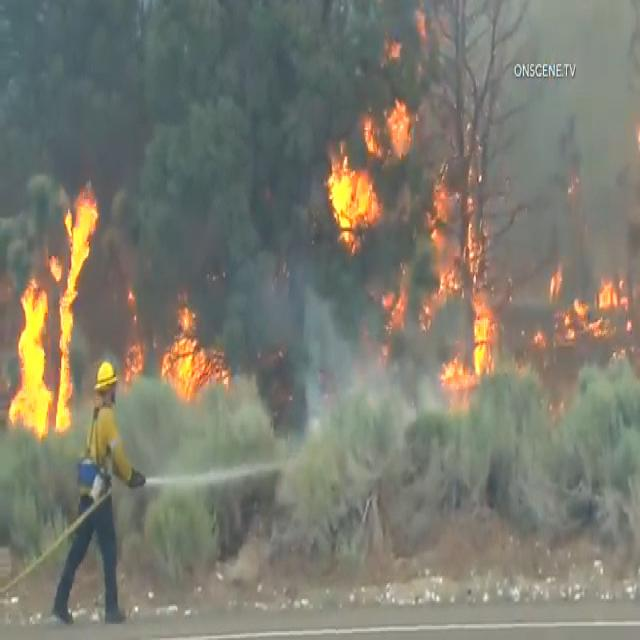fire: (0, 208, 94, 433), (519, 99, 623, 160), (325, 158, 377, 238)
